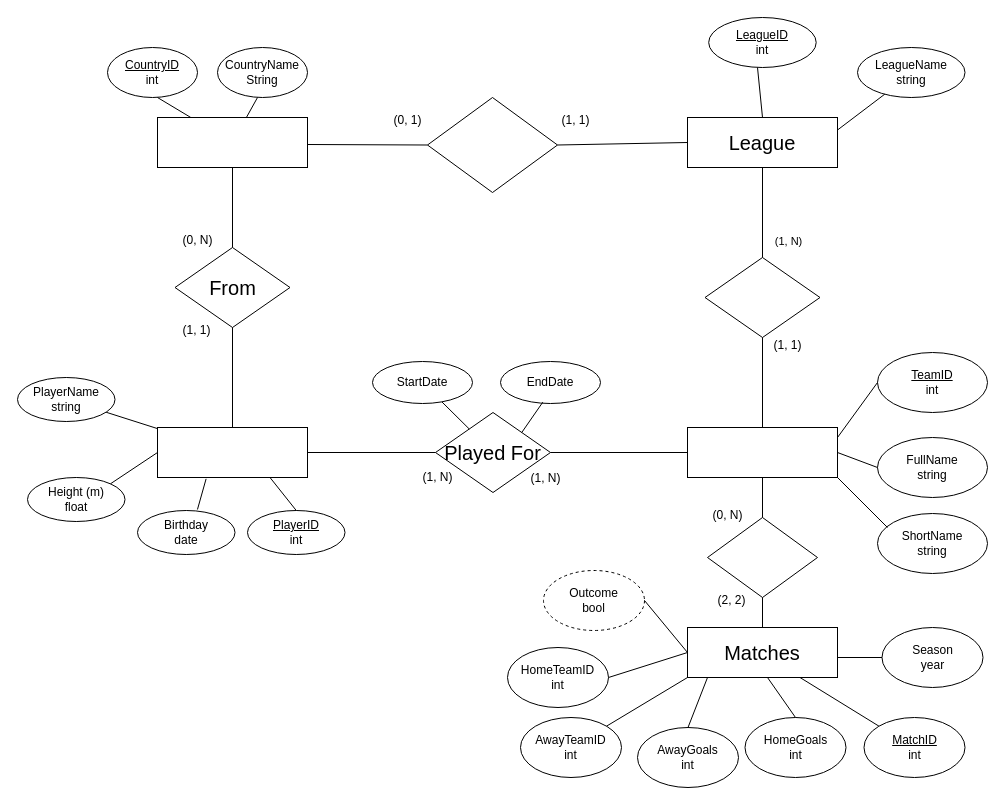
Image size: 1005x805. Some labels were removed from this diagram. Each missing label, with the centre of its shape:
"Belongs To" belongs at [492,144].
"Country" belongs at [232,142].
"Member of" belongs at [762,297].
"Played In" belongs at [762,557].
"Player" belongs at [232,452].
"Team" belongs at [762,452].
